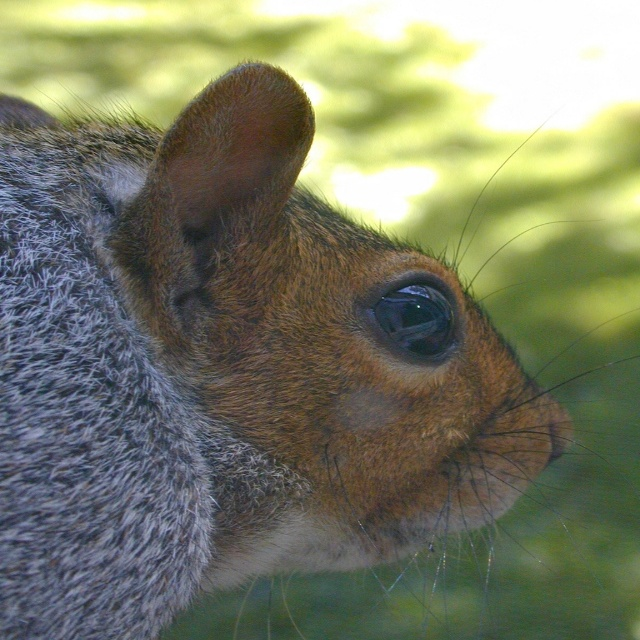Rabbit: (0, 60, 639, 640)
